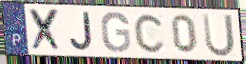0: (170, 13, 200, 55)
C: (133, 11, 167, 54)
G: (100, 11, 133, 54)
J: (69, 11, 95, 52)
U: (201, 12, 237, 58)
X: (27, 7, 64, 53)
